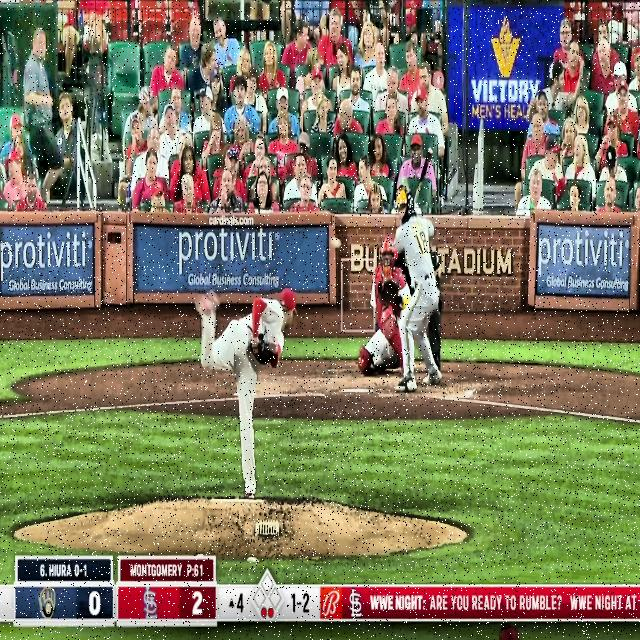baseball: (330, 234, 342, 250)
